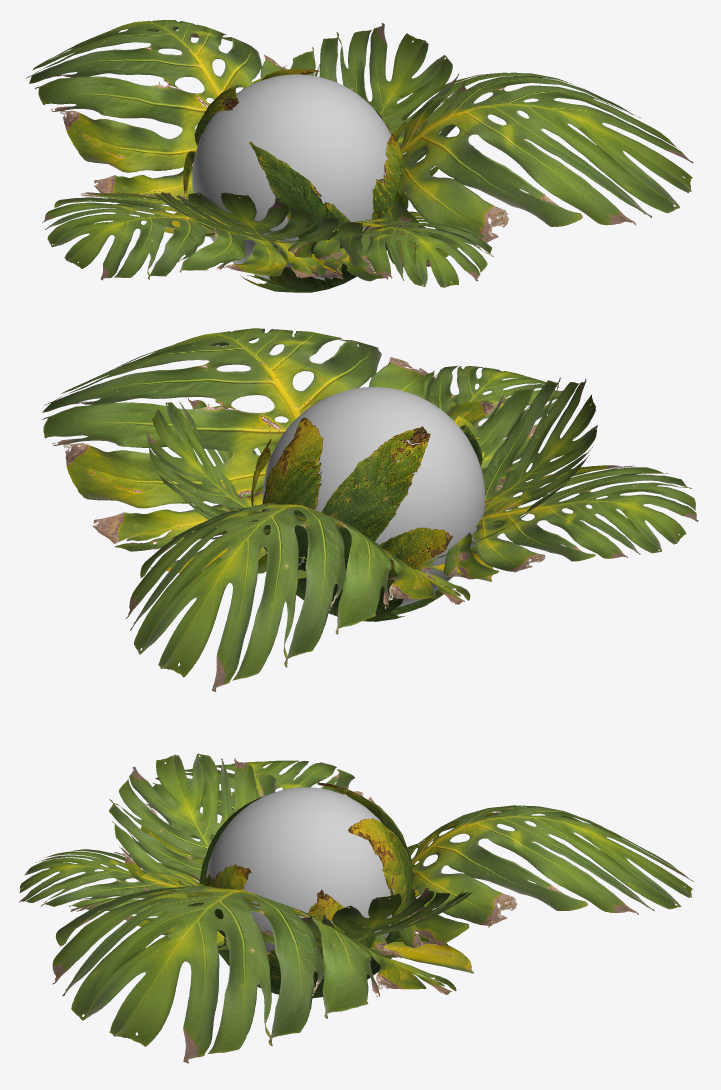
File: Eyeball_Plant_Versie2.fbx
3 views of the same model, one above another, from view 1: azimuth 30°, elevation 25°; view 2: azimuth 150°, elevation 25°; view 3: azimuth 270°, elevation 25° (orthographic). The views are drawn at different scales.
Visible parts, largest first — view 1: Leaves, Eyeball, Plane.001; view 2: Leaves, Eyeball, Plane.001; view 3: Leaves, Eyeball, Plane.001.
Boxes of the visible parts, x1,y1,x2,y2 form: Leaves: (25,20,693,287); Eyeball: (192,74,391,279); Plane.001: (183,68,408,292); Leaves: (42,328,698,691); Eyeball: (262,387,484,607); Plane.001: (251,417,482,621); Leaves: (19,753,693,1063); Eyeball: (206,787,394,959); Plane.001: (199,782,414,998).
Bounding box in the file's own units: 53.41 × 16.46 × 54.09.
